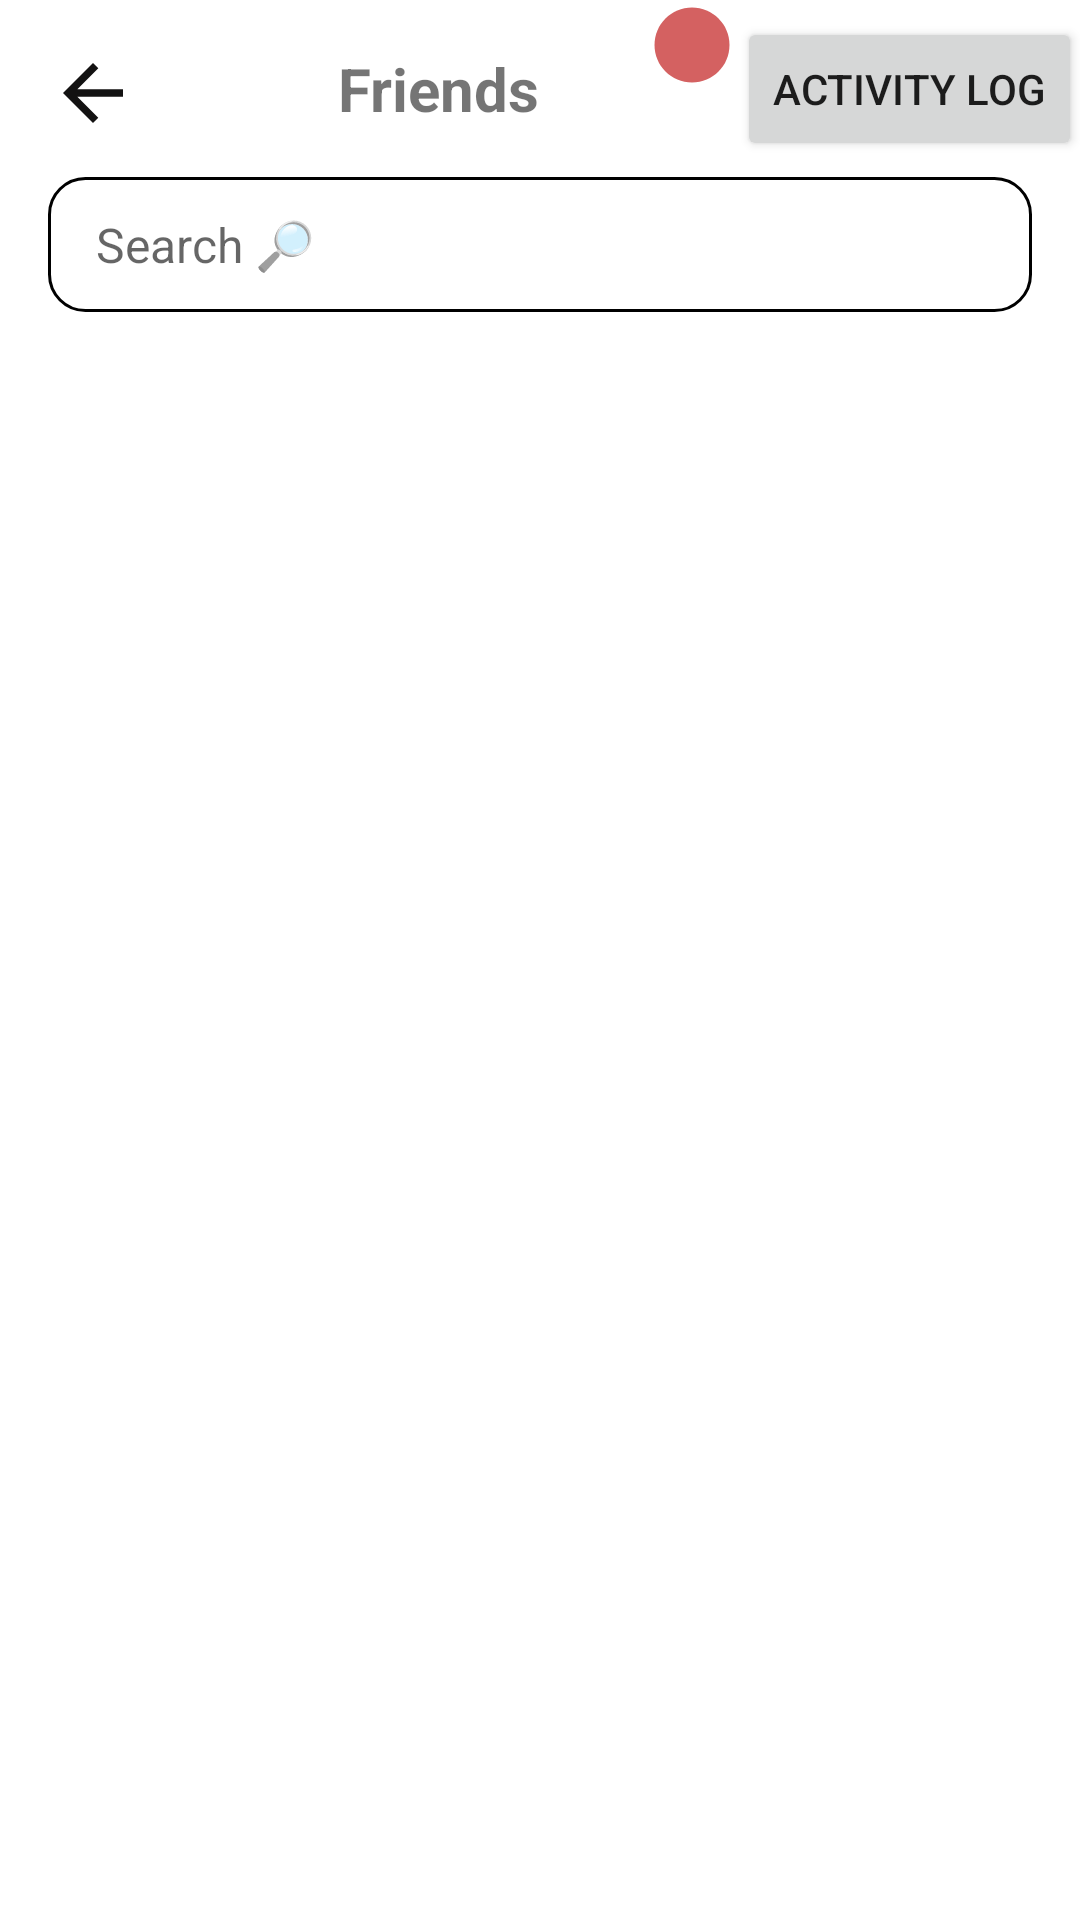

Locate icon controls on the screen. Image size 1080 x 1920, boxes as (x1, y1, x2, y2).
back: (63, 63, 123, 123)
